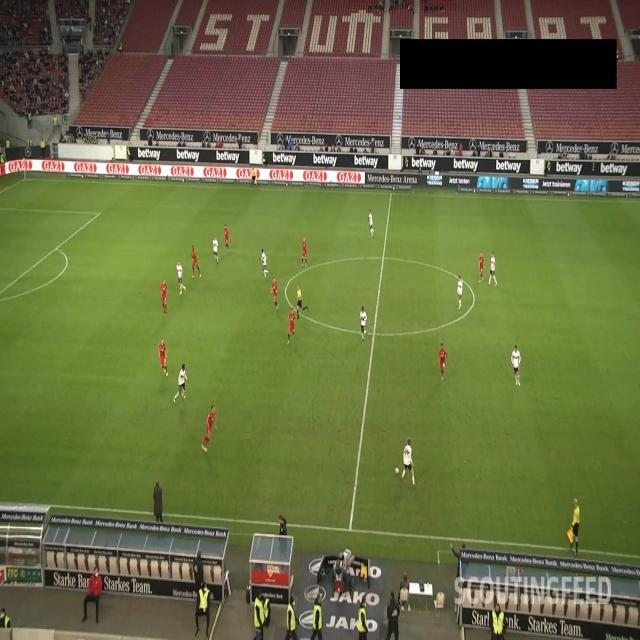ball: (394, 466, 400, 476)
